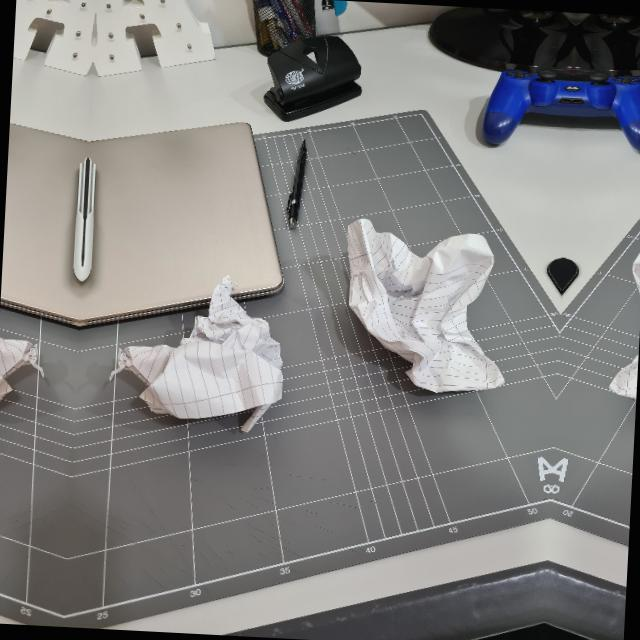paper: (340, 216, 507, 401), (116, 281, 286, 433), (0, 274, 37, 420), (613, 229, 640, 407)
